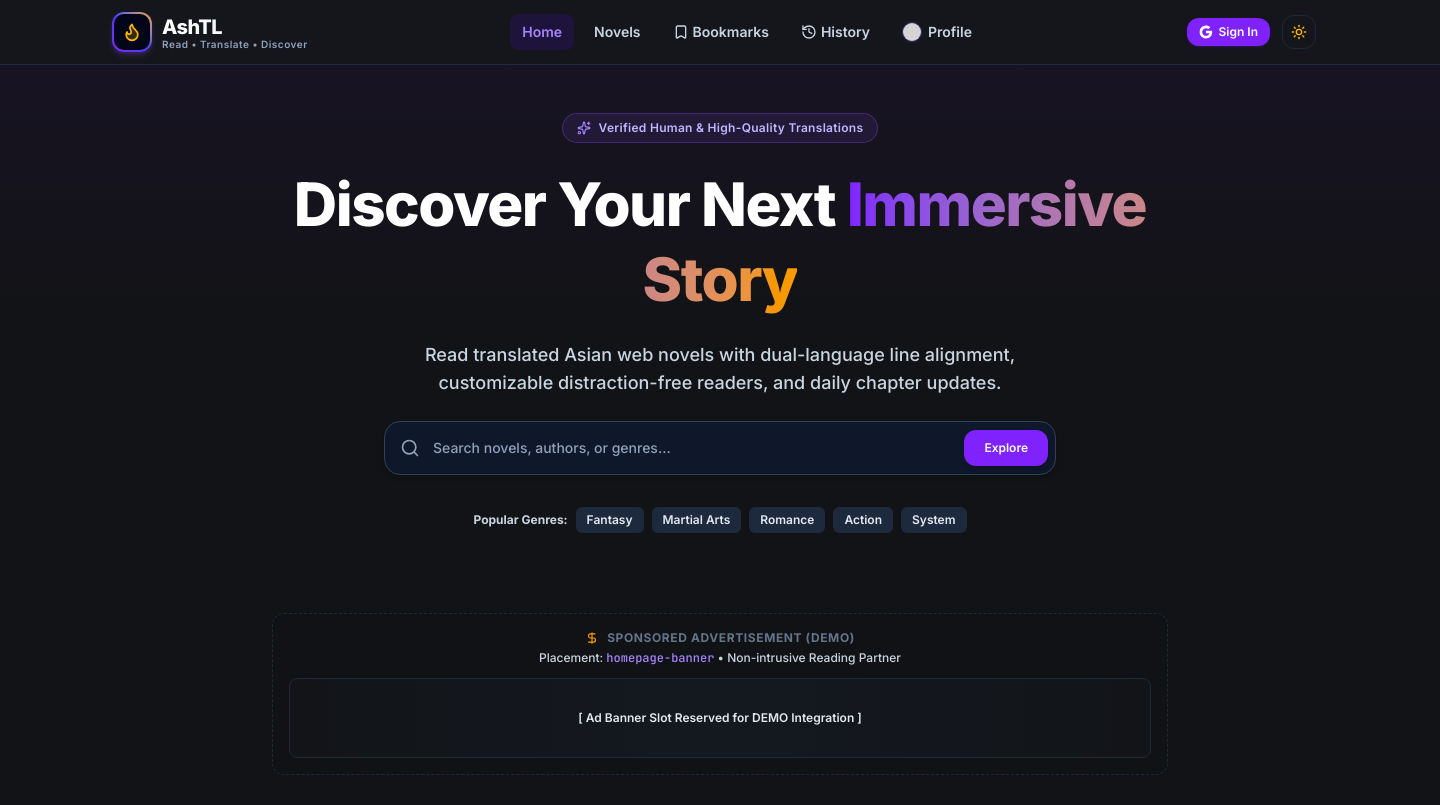
Test case: AshTL Application Core Workflows & Admin Security › navigates to novel catalog and shows empty state when no novels exist
The width and height of the screenshot is (1440, 805).
Click the button "Novels".
click(617, 32)  # box [582,14,652,50]
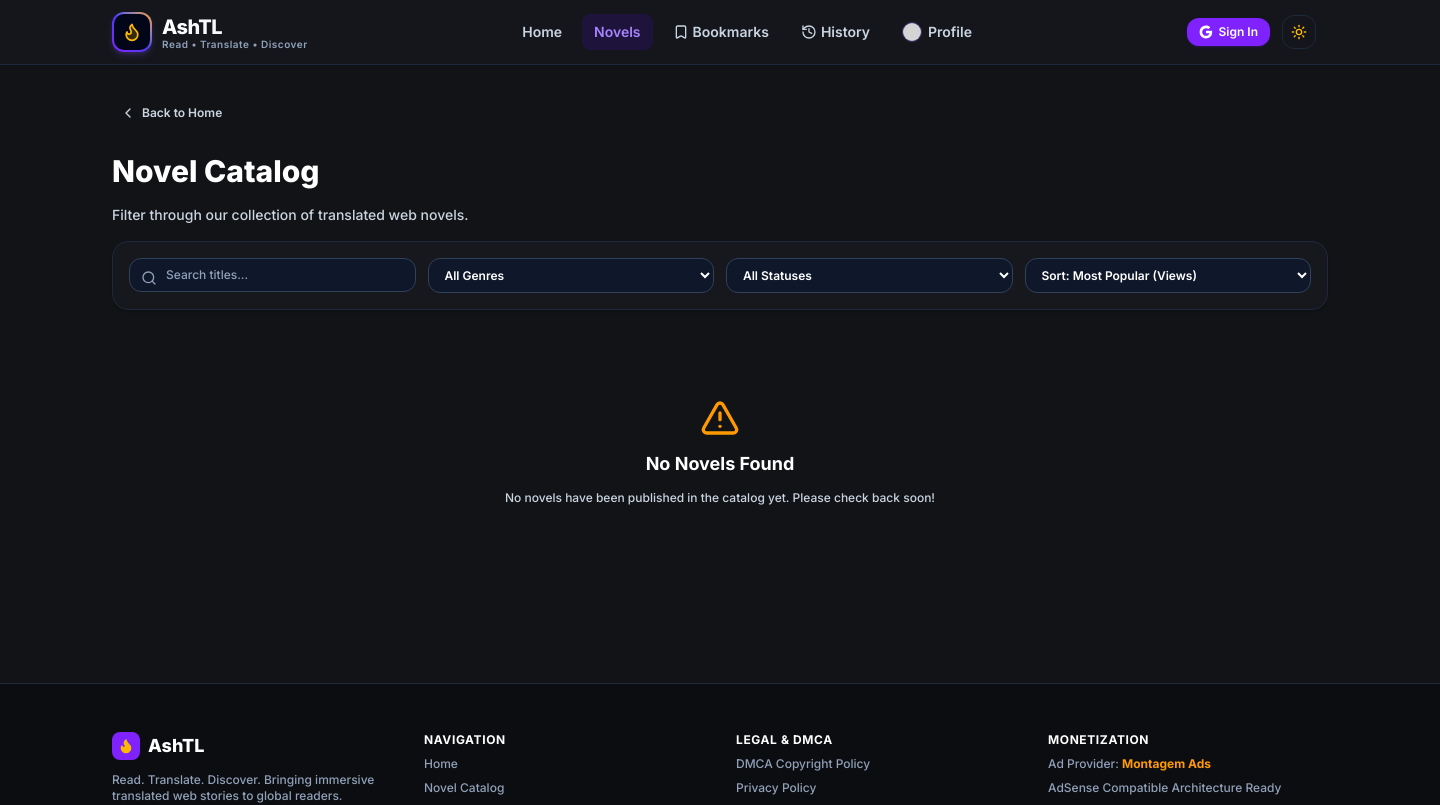
Expected: the heading "Novel Catalog" is shown, [112,153,320,189]
Expected: the heading "No Novels Found" is shown, [646,453,794,474]
Expected: the text "No novels have been published in the catalog yet" is shown, [505,490,935,505]
